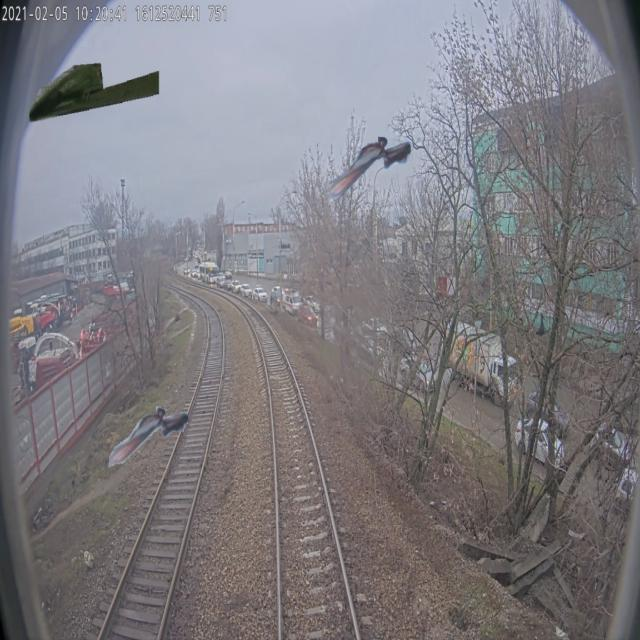floating object: (29, 60, 159, 124), (328, 135, 411, 199), (107, 404, 189, 468)
